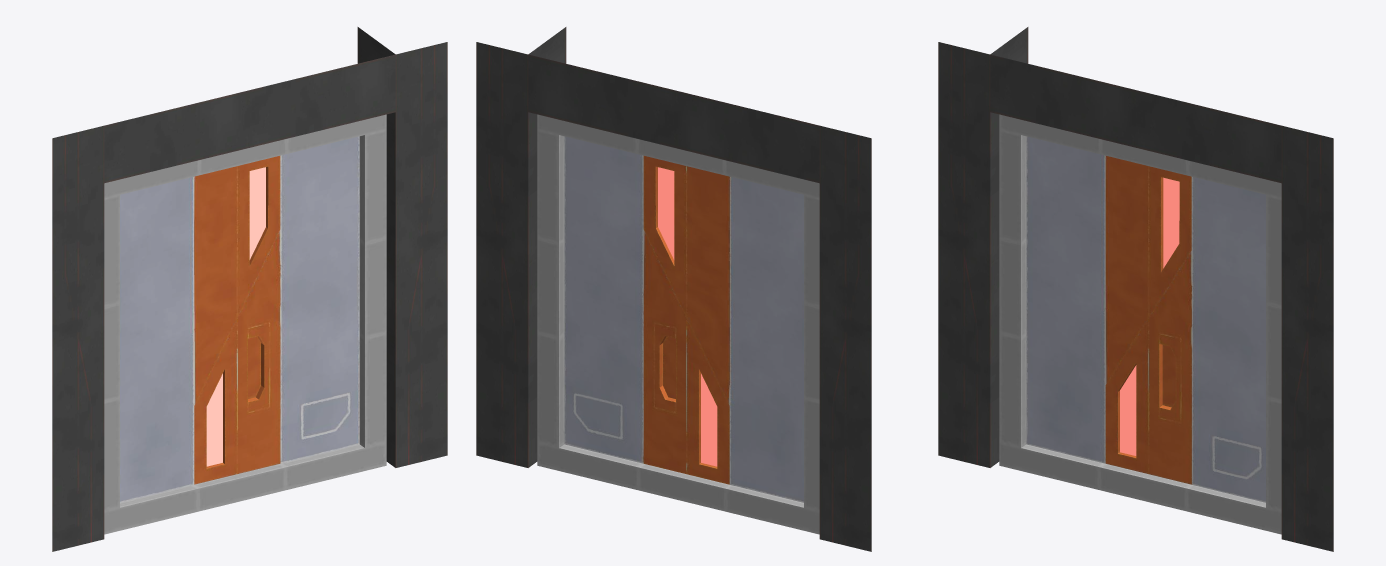
The model's file is Door_Hallway.glb.
3 renders of one model, left to right at view 1: azimuth 30°, elevation 25°; view 2: azimuth 150°, elevation 25°; view 3: azimuth 330°, elevation 25°, orthographic.
Visible parts, largest first — view 1: Door_Hallway, Door_Big_1, Door_Big_2; view 2: Door_Hallway, Door_Big_1, Door_Big_2; view 3: Door_Hallway, Door_Big_2, Door_Big_1.
Part boxes in pixels (left/top/right/bottom): Door_Hallway: left=52, top=27, right=447, bottom=551; Door_Big_1: left=194, top=136, right=359, bottom=484; Door_Big_2: left=120, top=156, right=280, bottom=502; Door_Hallway: left=476, top=27, right=871, bottom=551; Door_Big_1: left=564, top=136, right=729, bottom=484; Door_Big_2: left=643, top=156, right=803, bottom=502; Door_Hallway: left=938, top=27, right=1333, bottom=551; Door_Big_2: left=1026, top=136, right=1191, bottom=463; Door_Big_1: left=1105, top=177, right=1265, bottom=502.
Bounding box in the file's own units: 6 × 6.04 × 1.
3 materials, 2 textured.
